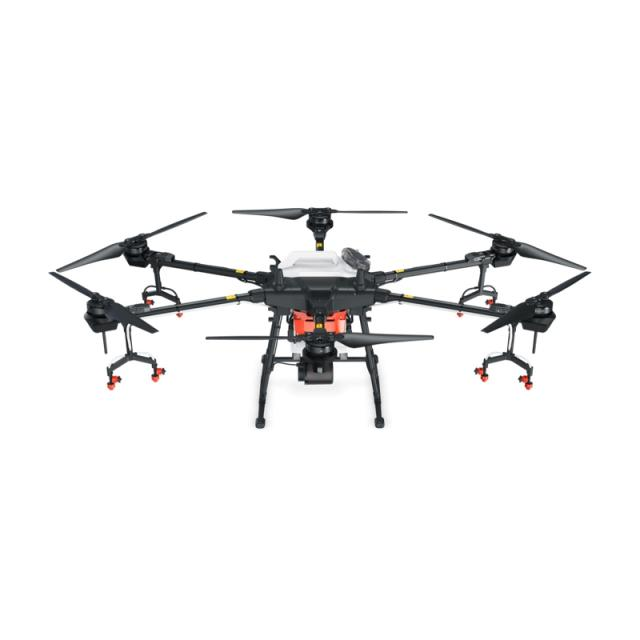drone: (31, 179, 579, 455)
